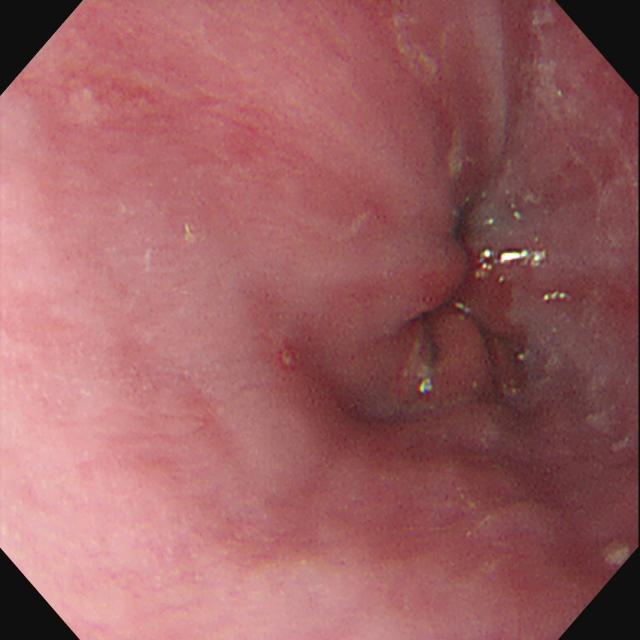U: (483, 249, 528, 270)
